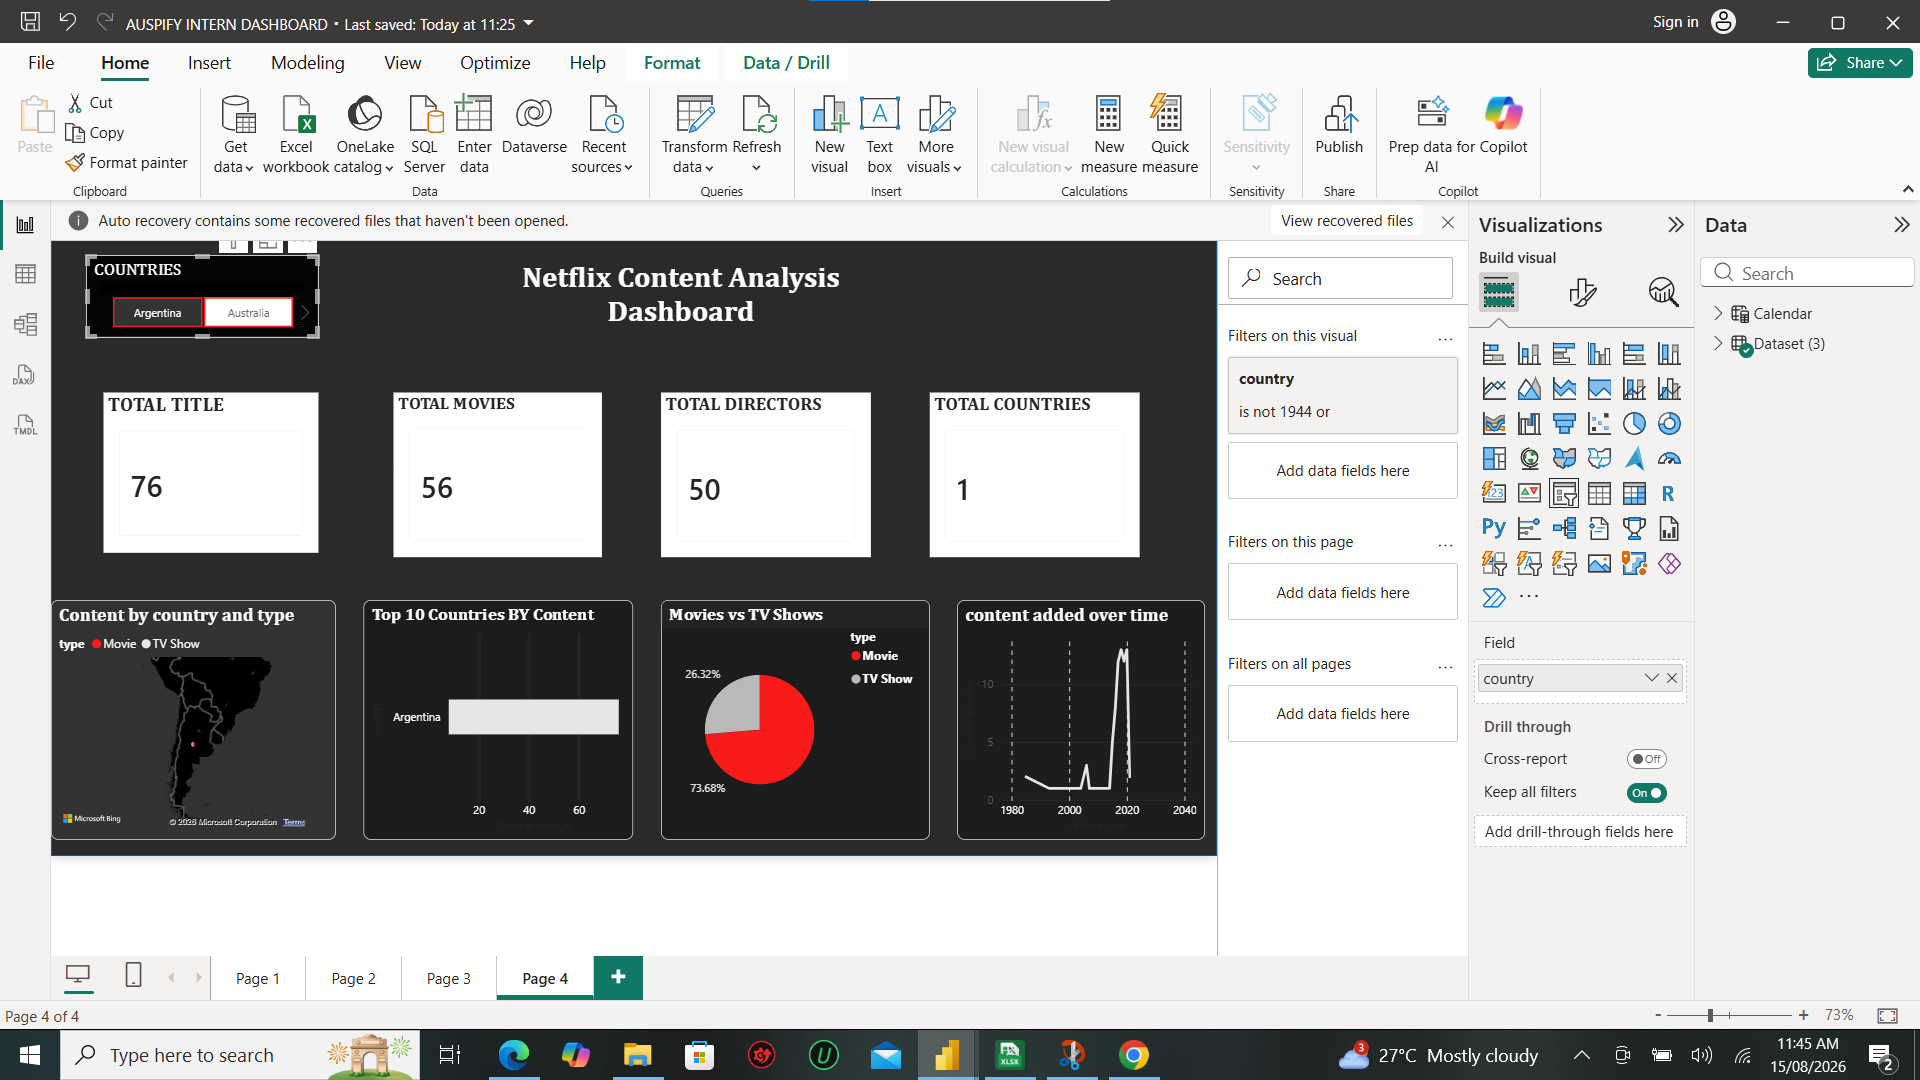

The page's visual inventory and layout, read from the dashboard file:
{"tool":"powerbi","page":{"name":"Page 4","canvas":[1280,720],"ordinal":3},"visuals":[{"type":"shape","box":[0,0,1280.3,720.4],"z":0},{"type":"pieChart","title":"Movies vs TV Shows","fields":{"Y":["CountNonNull(Dataset (3).show_id)"],"Category":["Dataset (3).type"]},"box":[669.6,439.1,295,263.5],"z":1000},{"type":"map","title":"Content by country and type","fields":{"Category":["Dataset (3).country"],"Series":["Dataset (3).type"]},"box":[0,439.1,312.9,263.5],"z":3000},{"type":"clusteredBarChart","title":"Top 10 Countries BY Content","fields":{"Category":["Dataset (3).country"],"Y":["CountNonNull(Dataset (3).show_id)"]},"box":[343.1,439.1,296.4,263.5],"z":4000},{"type":"slicer","title":"COUNTRIES","fields":{"Values":["Dataset (3).country"]},"box":[38.4,60.4,255.2,90.6],"z":5000},{"type":"lineChart","title":"content added over time","fields":{"Category":["Dataset (3).release_year"],"Y":["CountNonNull(Dataset (3).director)"]},"box":[994.9,439.1,271.7,263.5],"z":6000},{"type":"textbox","box":[439.1,60.4,505,126.2],"z":6001},{"type":"cardVisual","title":"TOTAL MOVIES","fields":{"Data":["Count(Dataset (3).show_id)"]},"box":[376,211.3,229.2,181.1],"z":6002},{"type":"cardVisual","title":"TOTAL DIRECTORS","fields":{"Data":["Count(Dataset (3).director)"]},"box":[669.6,211.3,230.5,181.1],"z":6003},{"type":"cardVisual","title":"TOTAL COUNTRIES","fields":{"Data":["Count(Dataset (3).country)"]},"box":[964.7,211.3,230.5,181.1],"z":6004},{"type":"cardVisual","title":"TOTAL  TITLE","fields":{"Data":["Count(Dataset (3).show_id)"]},"box":[57.6,211.3,236,175.6],"z":6005}]}

Visuals, with their boxes on the page's 1280x720 design canvas (x1, y1, x2, y2). These are canvas units, not pixel positions in the 1920x1080 screenshot, which may show the page scaled, cropped or inside an application window:
shape: box(0, 0, 1280, 720)
"Movies vs TV Shows" pieChart: box(670, 439, 965, 703)
"Content by country and type" map: box(0, 439, 313, 703)
"Top 10 Countries BY Content" clusteredBarChart: box(343, 439, 640, 703)
"COUNTRIES" slicer: box(38, 60, 294, 151)
"content added over time" lineChart: box(995, 439, 1267, 703)
textbox: box(439, 60, 944, 187)
"TOTAL MOVIES" cardVisual: box(376, 211, 605, 392)
"TOTAL DIRECTORS" cardVisual: box(670, 211, 900, 392)
"TOTAL COUNTRIES" cardVisual: box(965, 211, 1195, 392)
"TOTAL  TITLE" cardVisual: box(58, 211, 294, 387)
